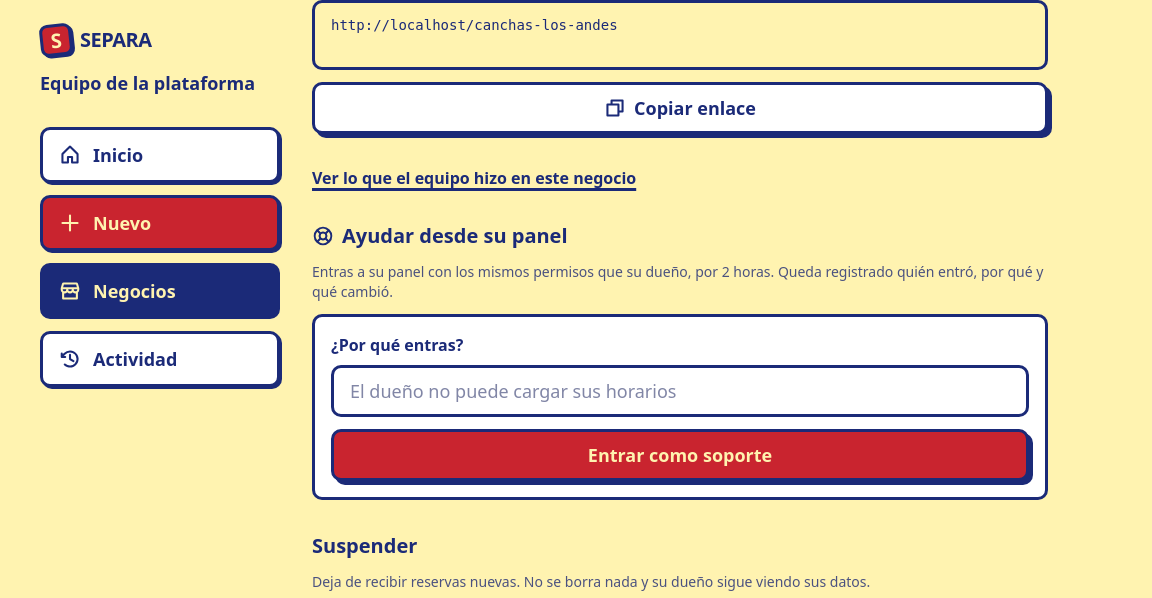
Test: entering as support › stays in the team area when the server refuses
(page scrolled)
Type "Ayuda" into the field labelled "¿Por qué entras?".
click(680, 391); type("Ayuda")  # box [331,365,1029,417]
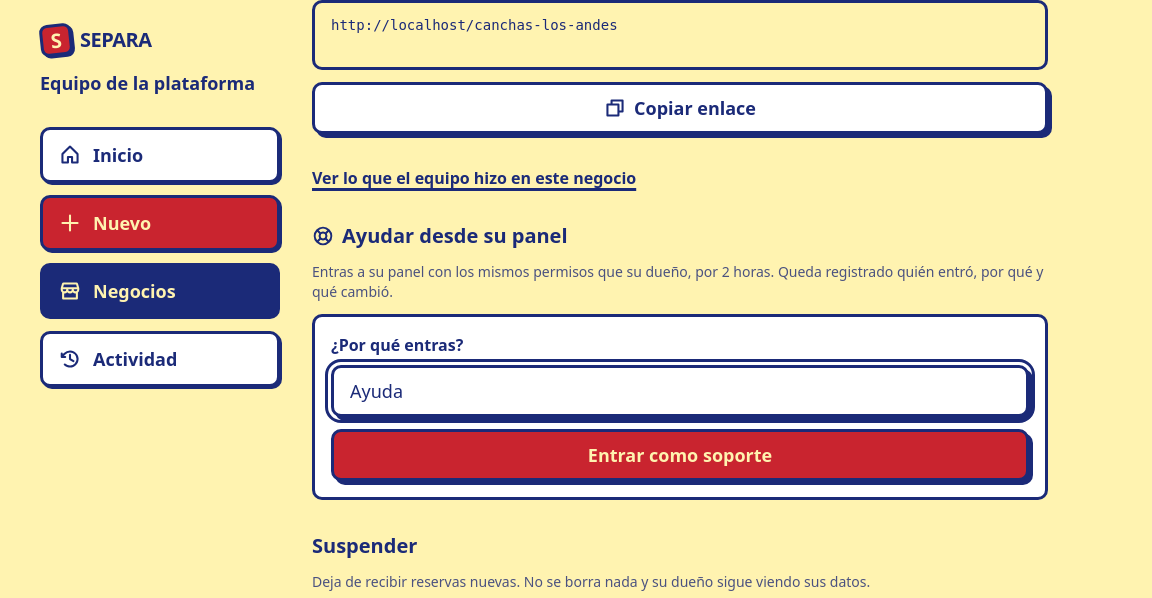
Click the button "Entrar como soporte".
click(680, 455)  # box [331,429,1029,481]
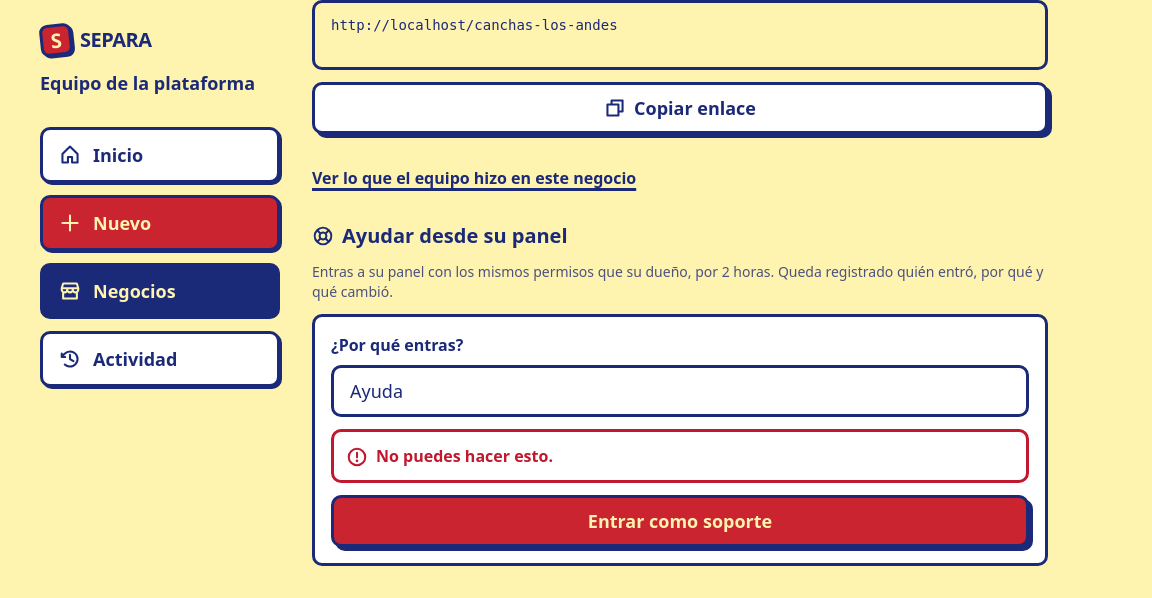
Now the text "No puedes hacer esto." is shown, box [331,429,1029,483]
